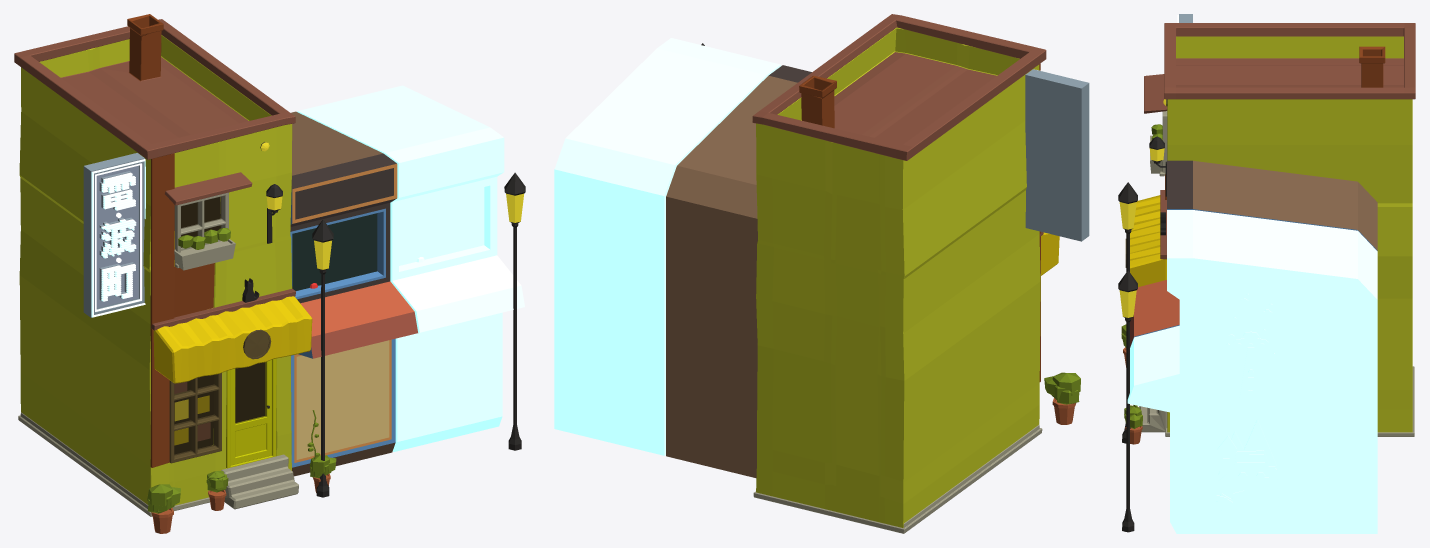
File: gameHall.glb
The picture shows the model from 3 angles, left to right: view 1: azimuth 30°, elevation 25°; view 2: azimuth 150°, elevation 25°; view 3: azimuth 270°, elevation 25°; orthographic projection. The views are drawn at different scales.
Parts seen in each view (by area): view 1: test01_shop_facade.001, Cabinet.002, Cabinet.001, test01_shop_awning.001, test01_shop_coping.001, test01_shop_brick_pillar.001, test01_shop_door.001, Denpa_Cabinet, test01_shop_steps.001, Denpa_Bay, test01_shop_shop_window.001, test01_shop_shop_window_glass.001 (+18 smaller); view 2: test01_shop_facade.001, Cabinet.002, Cabinet.001, Denpa_Cabinet, test01_shop_coping.001, test01_shop_foundation.001, test01_shop_pot_left.001, test01_shop_awning.001; view 3: Cabinet.002, test01_shop_facade.001, Cabinet.001, test01_shop_coping.001, SideArt.002, test01_shop_awning.001, test01_shop_street_lamp.002, test01_shop_street_lamp.001, test01_shop_upper_canopy.001, test01_shop_steps.001, test01_shop_pot_right.001, test01_shop_wall_lamp.001 (+1 smaller).
Part boxes in pixels (x1,y1,x2,y2): test01_shop_facade.001: (19,14,292,505); Cabinet.002: (297,85,524,451); Cabinet.001: (290,111,417,476); test01_shop_awning.001: (153,296,312,383); test01_shop_coping.001: (14,19,295,159); test01_shop_brick_pillar.001: (150,153,174,467); test01_shop_door.001: (226,358,276,468); Denpa_Cabinet: (83,153,144,317); test01_shop_steps.001: (221,454,298,509); Denpa_Bay: (96,165,138,308); test01_shop_shop_window.001: (169,373,221,463); test01_shop_shop_window_glass.001: (174,375,215,455); test01_shop_facade.001: (756,27,1040,527); Cabinet.002: (554,38,780,455); Cabinet.001: (666,65,811,478); Denpa_Cabinet: (1025,69,1089,241); test01_shop_coping.001: (752,14,1046,160); test01_shop_foundation.001: (753,425,1042,533); test01_shop_pot_left.001: (1044,372,1080,424); test01_shop_awning.001: (1041,232,1059,275); Cabinet.002: (1127,210,1377,533); test01_shop_facade.001: (1167,36,1412,432); Cabinet.001: (1130,160,1377,347); test01_shop_coping.001: (1164,23,1415,99); SideArt.002: (1216,293,1278,515); test01_shop_awning.001: (1130,195,1166,286); test01_shop_street_lamp.002: (1118,270,1137,532); test01_shop_street_lamp.001: (1118,182,1137,443); test01_shop_upper_canopy.001: (1144,74,1167,113); test01_shop_steps.001: (1139,406,1167,432); test01_shop_pot_right.001: (1124,405,1142,444); test01_shop_wall_lamp.001: (1149,136,1166,196).
Size of the model in its own units: 7.73 by 7.02 by 5.15.
72 materials, 4 textured.
